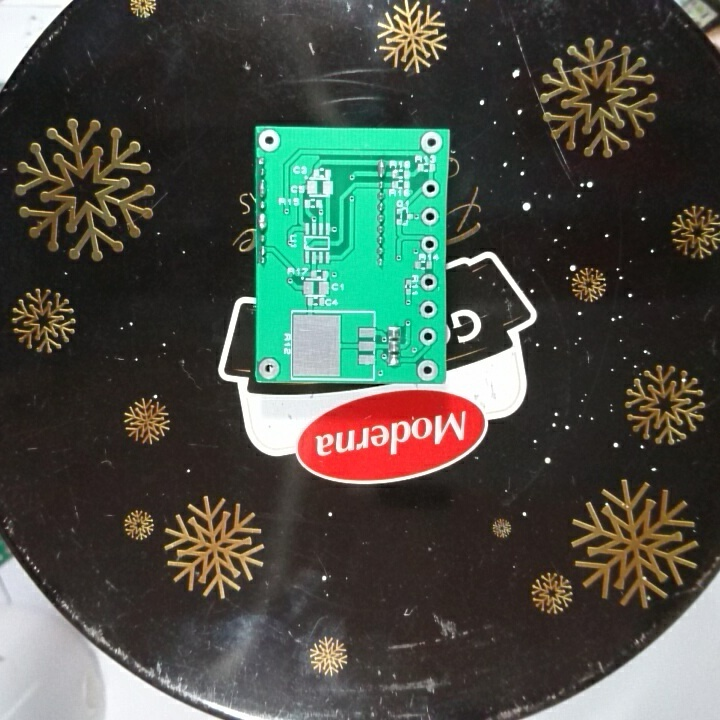F: (257, 355, 282, 383), (419, 130, 445, 155), (257, 128, 282, 153), (415, 356, 441, 380), (419, 204, 442, 229), (419, 178, 442, 200), (418, 269, 439, 293), (419, 234, 441, 256), (417, 298, 439, 320), (417, 323, 438, 346)
P: (375, 156, 388, 180), (257, 178, 270, 200), (257, 212, 269, 233)
